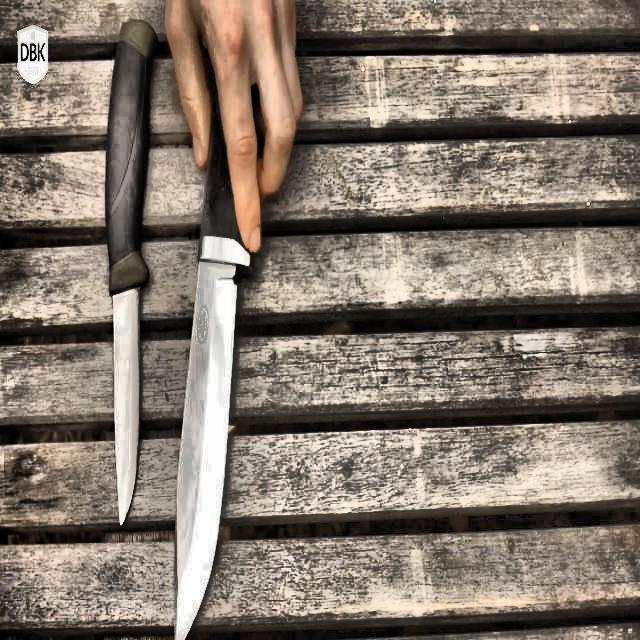knife: (176, 79, 250, 639), (103, 21, 149, 524)
